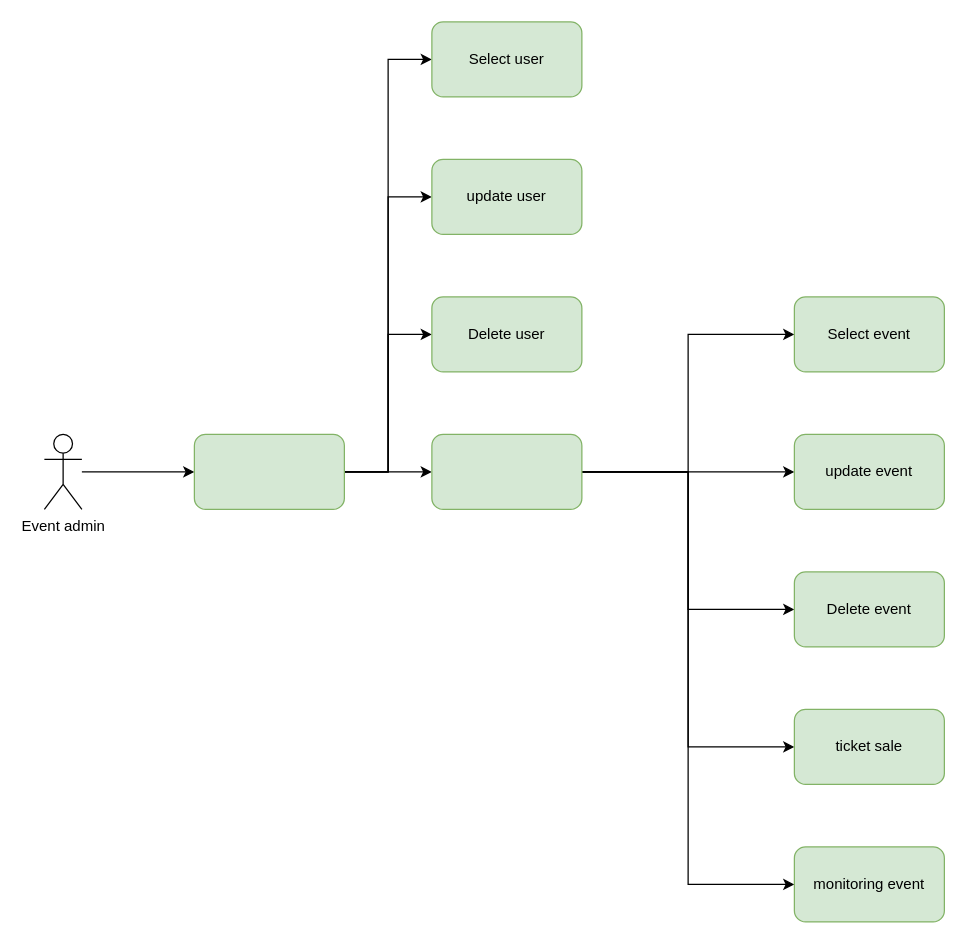
The diagram is 966 pixels wide and 944 high, and some of its shapes have lost their labels. Each missing label, with the box of its shape:
Create event: (431, 433, 582, 509)
Create user: (193, 433, 344, 509)
